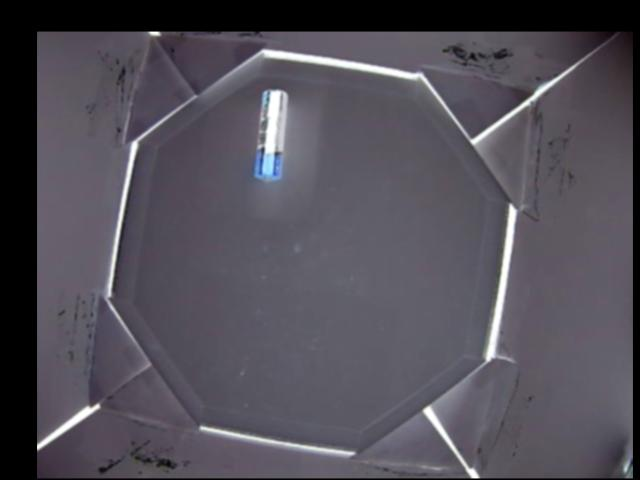Battery: (254, 88, 288, 181)
